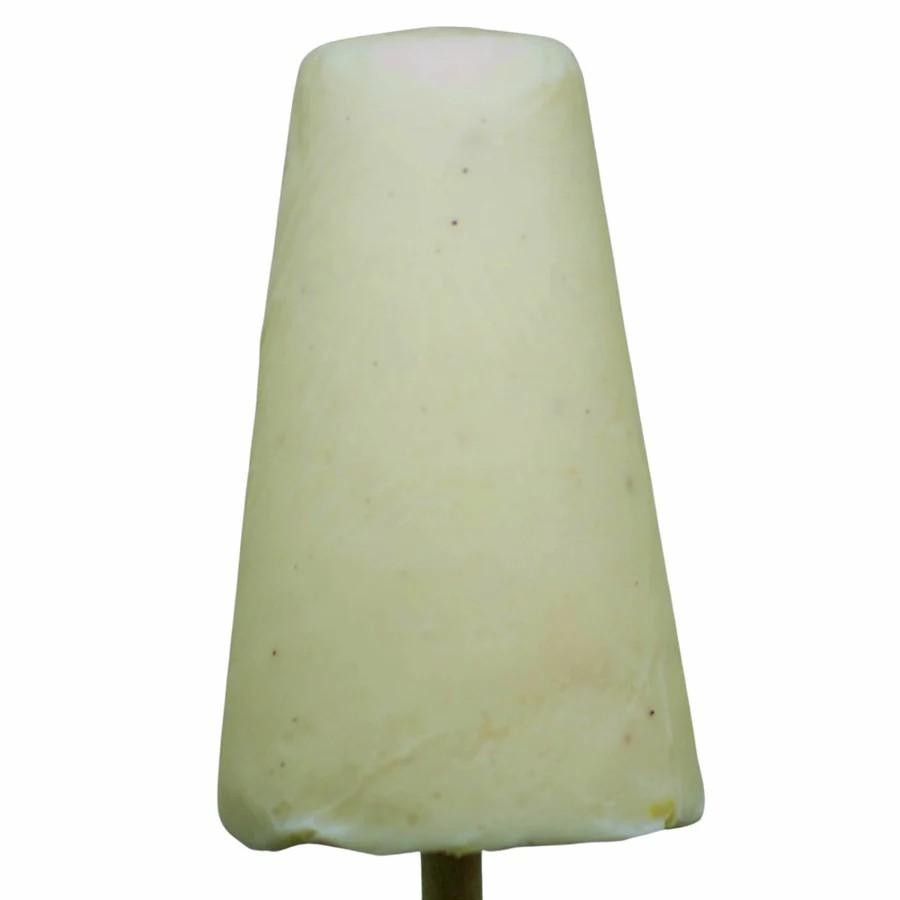Kulfi: (219, 30, 707, 855)
